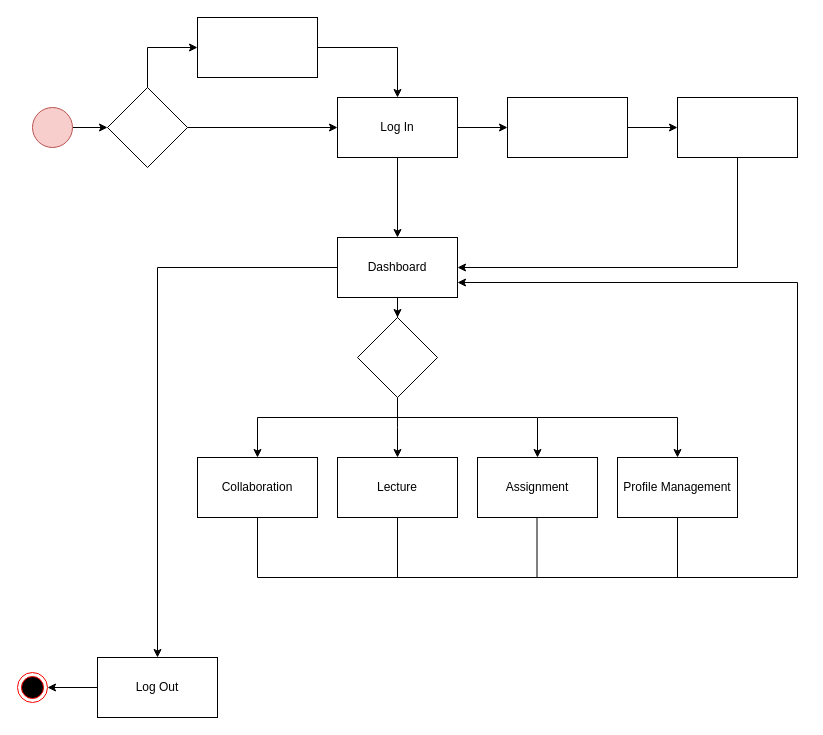
This 823x735 diagram has some shape labels left out. The shapes that lost their labels are listed below. From the top down, each one's centre as x and y in pixels, then its label:
At pixel 257 47: "Register".
At pixel 567 127: "Course Discovery".
At pixel 737 127: "Enrollment".
